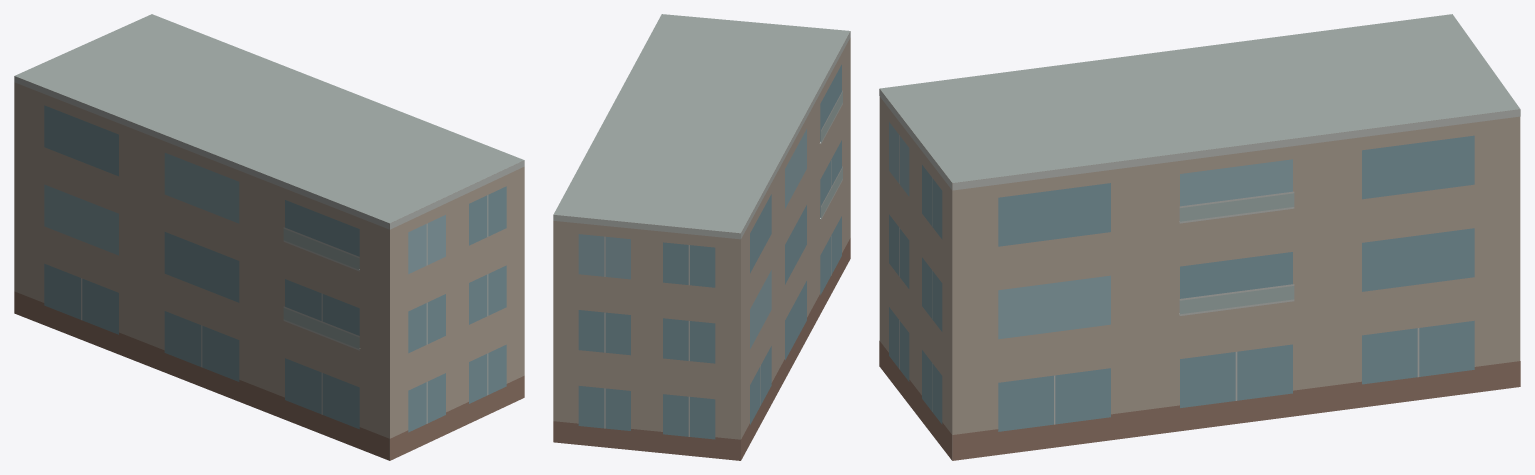
File: survey-upis-32983511.glb
3 views of the same model, side by side, from view 1: azimuth 30°, elevation 25°; view 2: azimuth 150°, elevation 25°; view 3: azimuth 270°, elevation 25° (orthographic). The views are drawn at different scales.
Parts seen in each view (by area): view 1: survey-upis-32983511.tmp; view 2: survey-upis-32983511.tmp; view 3: survey-upis-32983511.tmp.
Boxes of the visible parts, x1,y1,x2,y2 form: survey-upis-32983511.tmp: (14, 14, 524, 460); survey-upis-32983511.tmp: (553, 14, 850, 460); survey-upis-32983511.tmp: (879, 14, 1520, 460).
Size of the model in its own units: 11.96 by 9.15 by 19.15.
